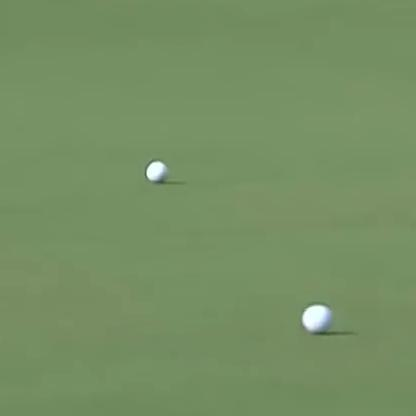golfball: (299, 301, 330, 331)
